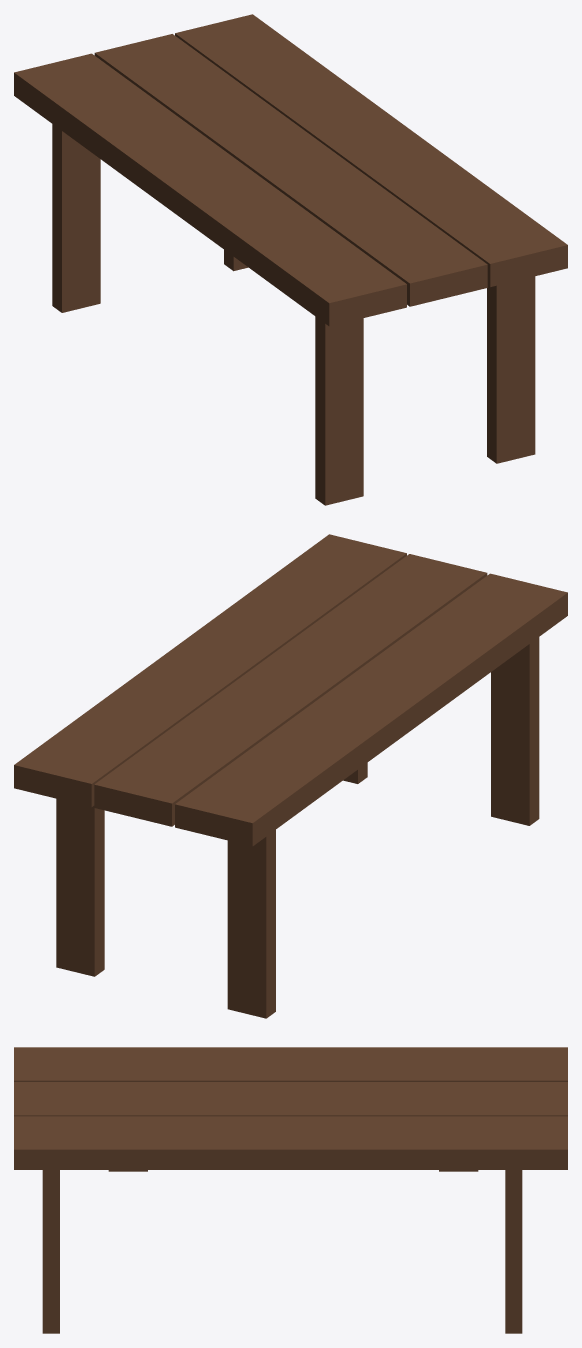
Rendered from Straight_Table.fbx.
3 views of the same model, one above another, from view 1: azimuth 30°, elevation 25°; view 2: azimuth 150°, elevation 25°; view 3: azimuth 270°, elevation 25° (orthographic). The views are drawn at different scales.
Visible parts, largest first — view 1: Cube.274; view 2: Cube.274; view 3: Cube.274.
Boxes of the visible parts, <box> form: Cube.274: <box>14,14,567,505</box>; Cube.274: <box>14,534,567,1018</box>; Cube.274: <box>14,1047,567,1333</box>.
Bounding box in the file's own units: 79.41 × 69.13 × 182.
Materials: 1 (1 with a texture image).
